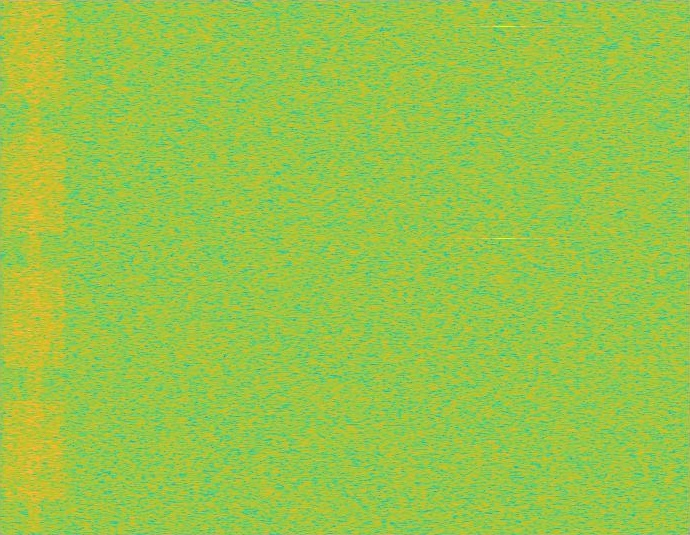5G: (0, 0, 69, 534)
DSSS: (27, 0, 42, 534)
Radar: (498, 0, 512, 534)
